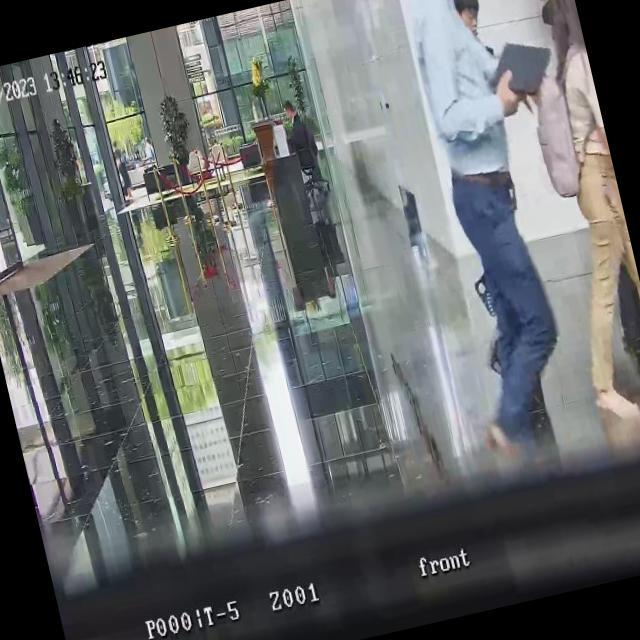person: (377, 0, 609, 455), (496, 0, 640, 426), (278, 95, 324, 186), (447, 0, 495, 61), (114, 149, 137, 205), (142, 132, 156, 166)
